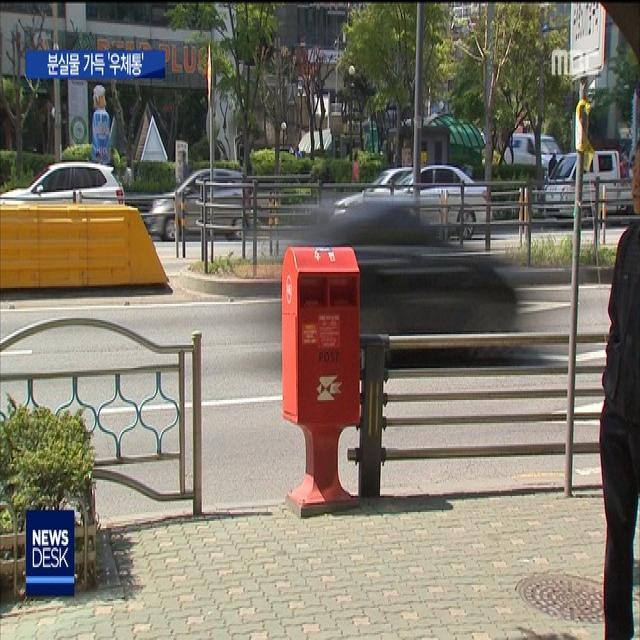Post Box: (279, 239, 369, 510)
